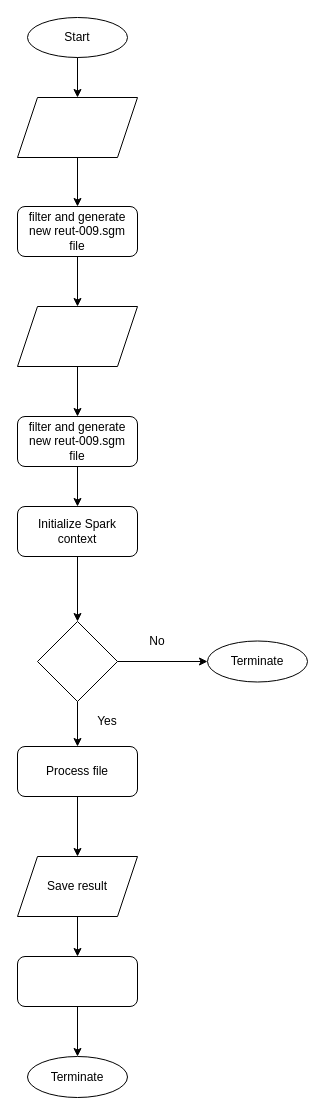
The diagram is 325 pixels wide and 1115 high, and some of its shapes have lost their labels. The box of each missing label's shape, as (x1, y1, x2, y2) in pixels:
Read reut-009.sgm file: (16, 96, 138, 158)
save new reut-009.sgm file: (16, 306, 138, 366)
spark initialized?: (36, 620, 118, 702)
Stop Spark Context: (16, 956, 138, 1006)
